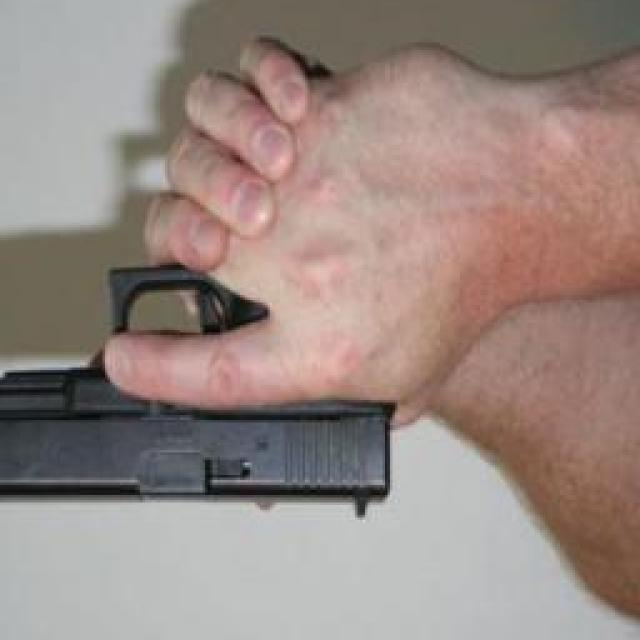pistol: (0, 45, 393, 525)
